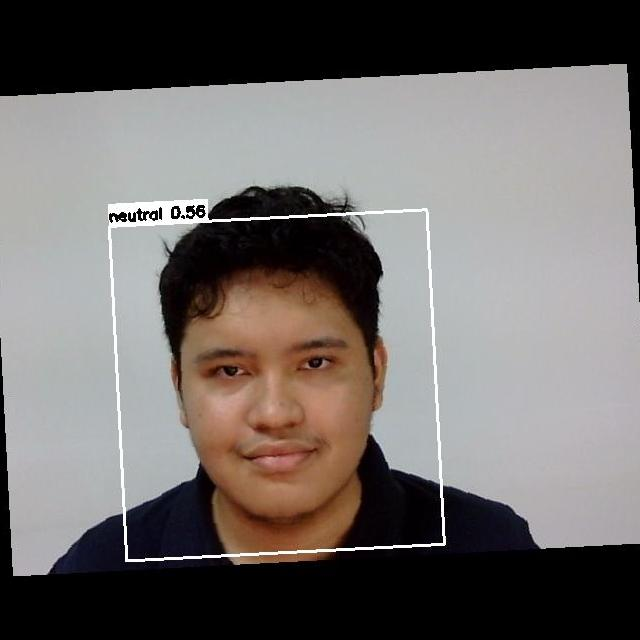Happy: (185, 330, 384, 491)
